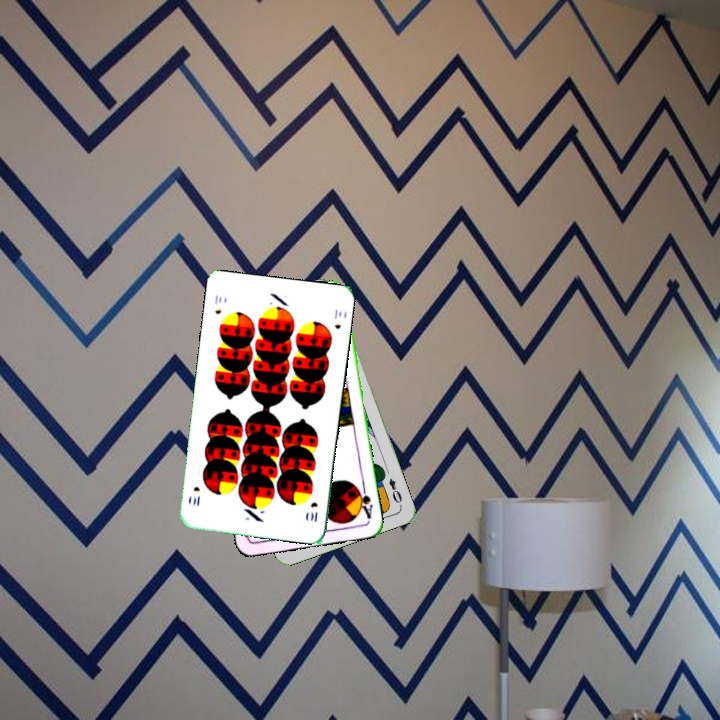EO: (385, 474, 404, 506)
S10: (306, 498, 320, 524), (211, 291, 224, 316)
SA: (353, 481, 375, 521)
